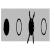correct: (3, 16, 10, 38)
no answer: (15, 16, 22, 38)
not correct: (27, 9, 35, 47)
